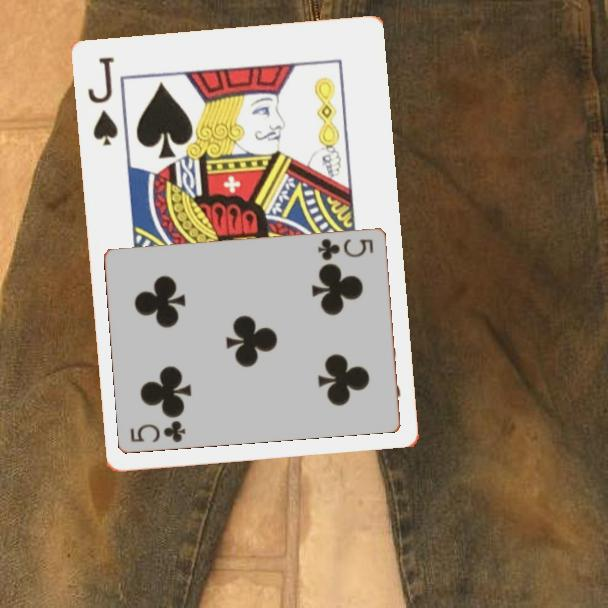c05: (315, 234, 376, 263), (127, 417, 189, 445)
s11: (85, 54, 122, 149)
